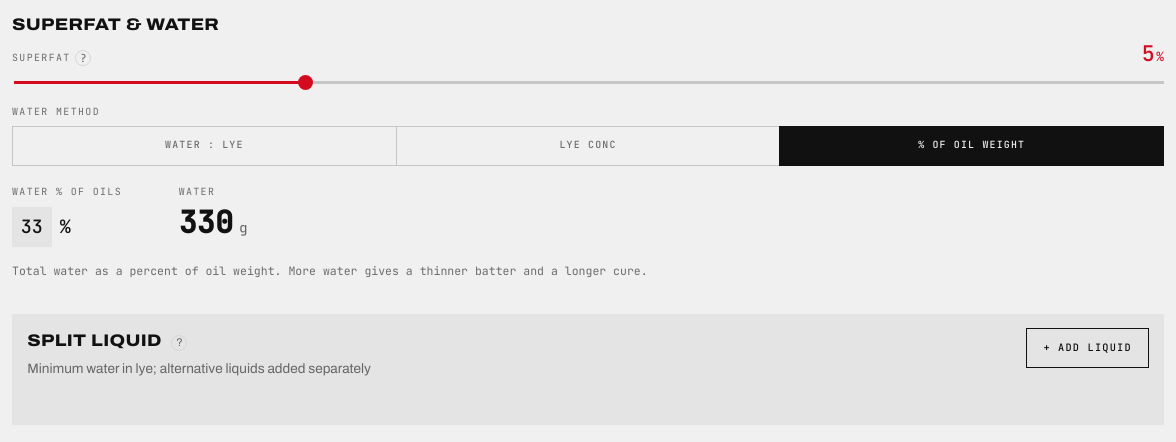
it: changing the water method swaps the editable water-ratio field
The image size is (1176, 442).
Expected: the number field named "Water % of oils" is shown, [12,207,52,248]
Click the radio button with aria-label "Lye concentration % — water method".
click(588, 146)  # box [396,126,780,166]
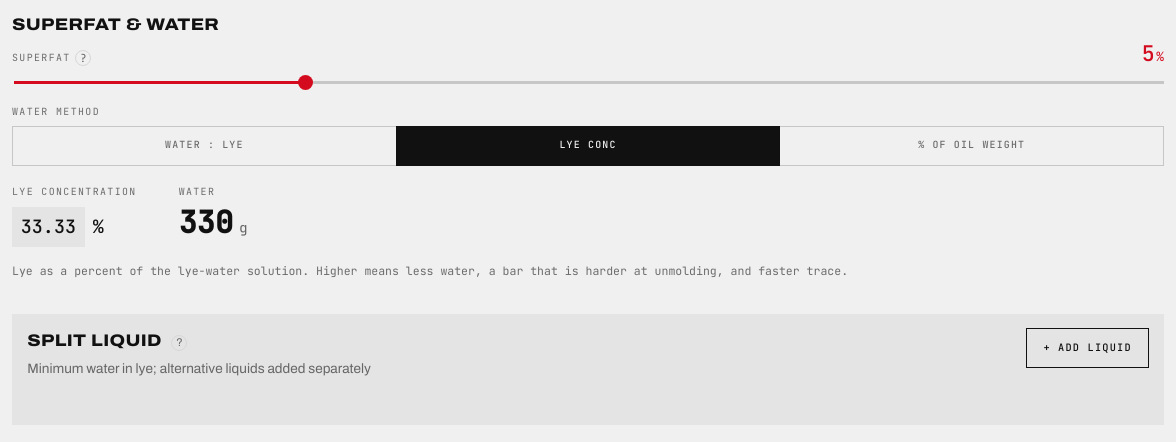
Expected: the number field named "Lye concentration %" is shown, [12,207,85,248]
Expected: the text labelled "Water % of oils" is gone
